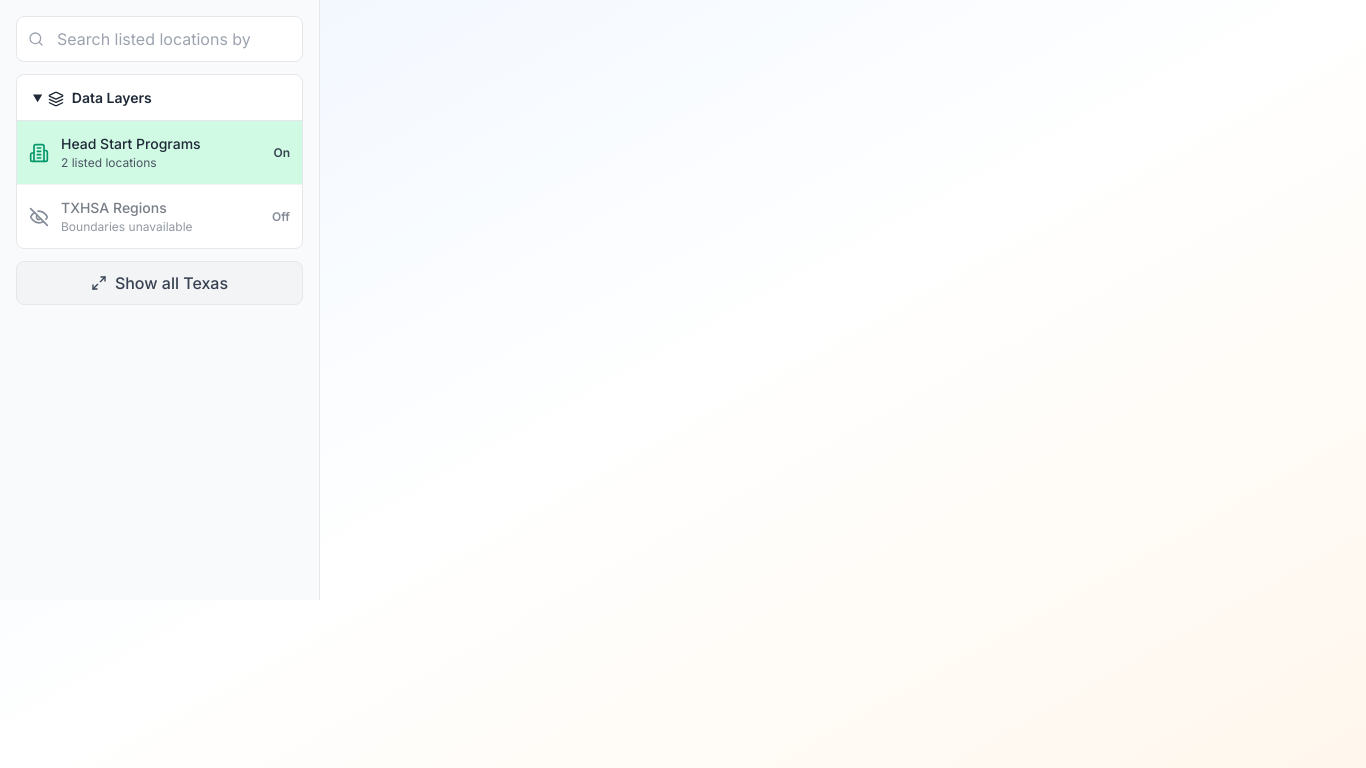
Scenario: TexasMap Component › search selection works for clustered and coincident locations
Type "Coincident" into the field named "Search Head Start programs" at (160, 39), box [16,16,303,62]
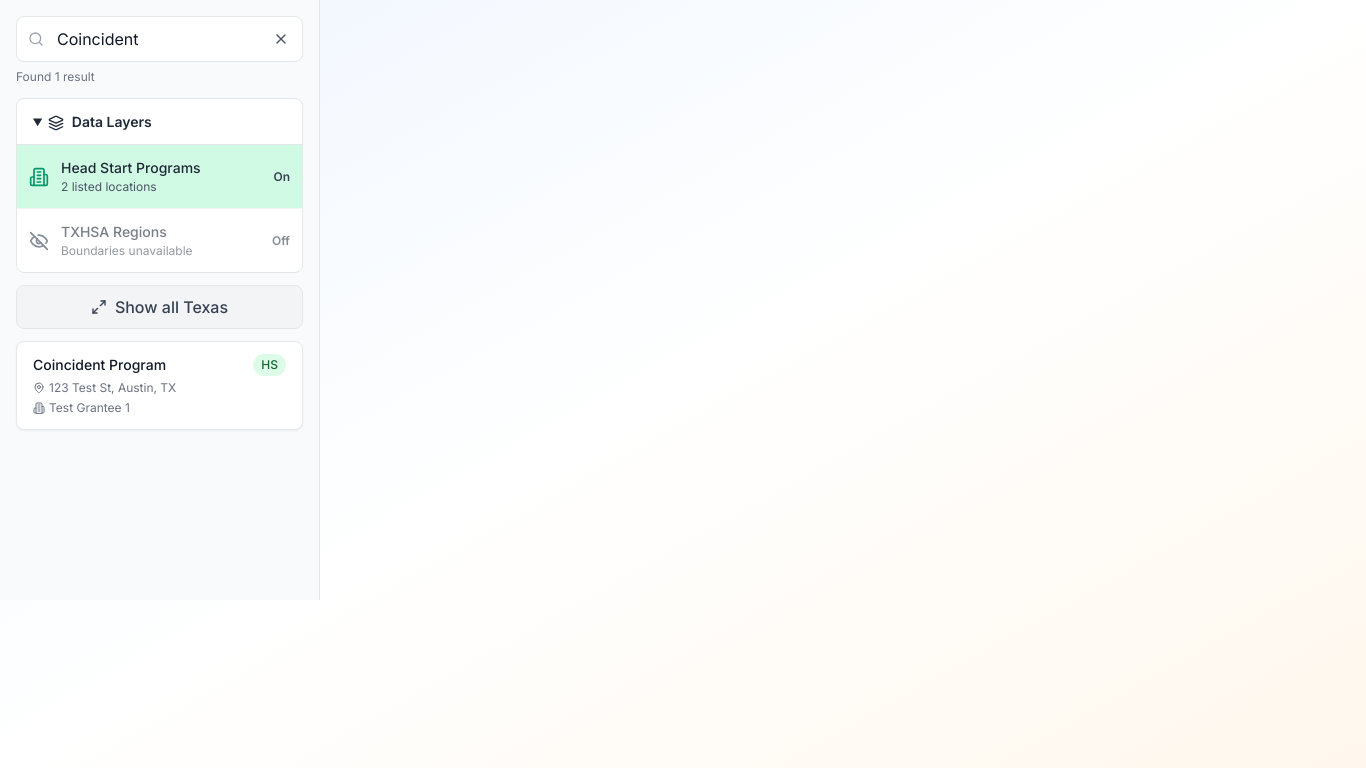
Click the button with aria-label "View Coincident Program" at (160, 386), box [17,342,302,429]
(page scrolled)
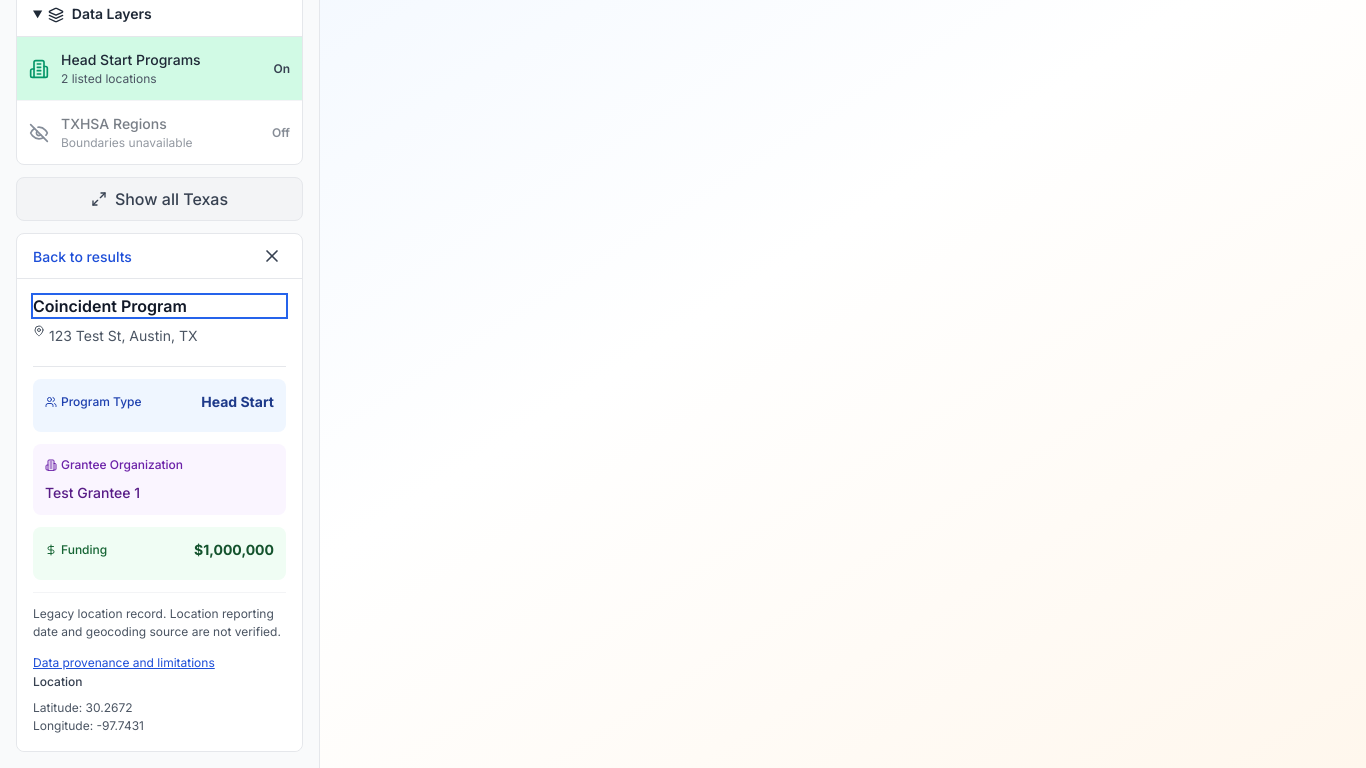
Result: the element "Coincident Program" is shown at [16,233,303,752]
